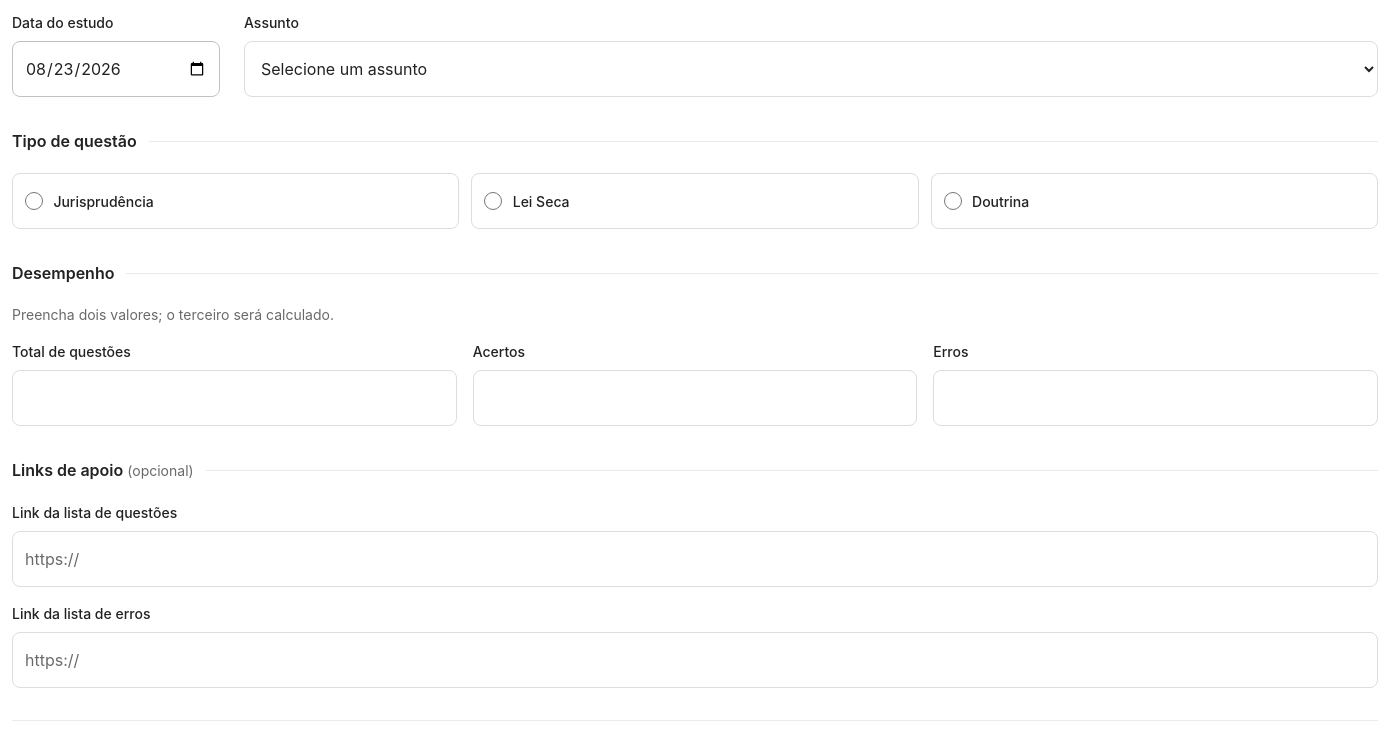
Test case: SessionForm › formats fractional percentages with one decimal in Brazilian Portuguese
This screenshot has width=1390, height=738.
Type "3" into the number field labelled "Total de questões" at (234, 398), box [12,370,457,426]
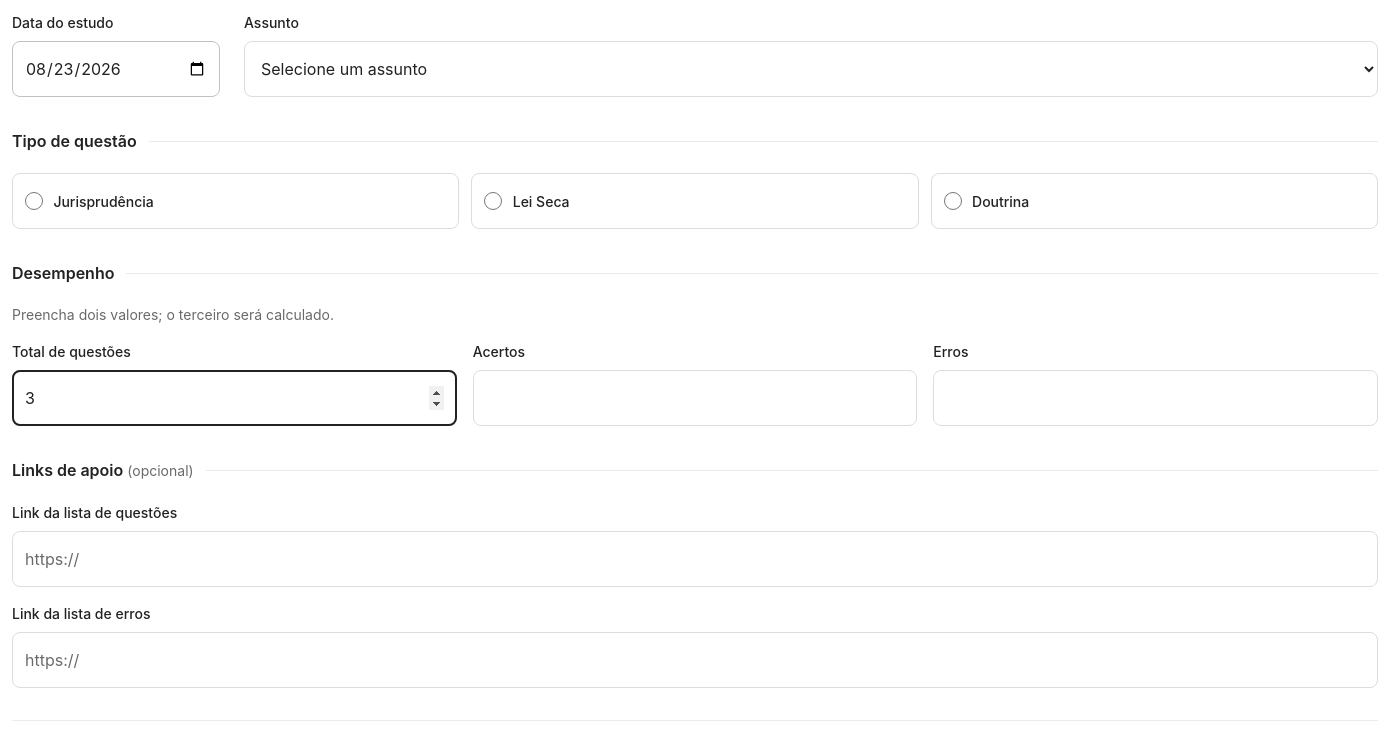
Type "2" into the number field labelled "Acertos" at (695, 398), box [473,370,917,426]
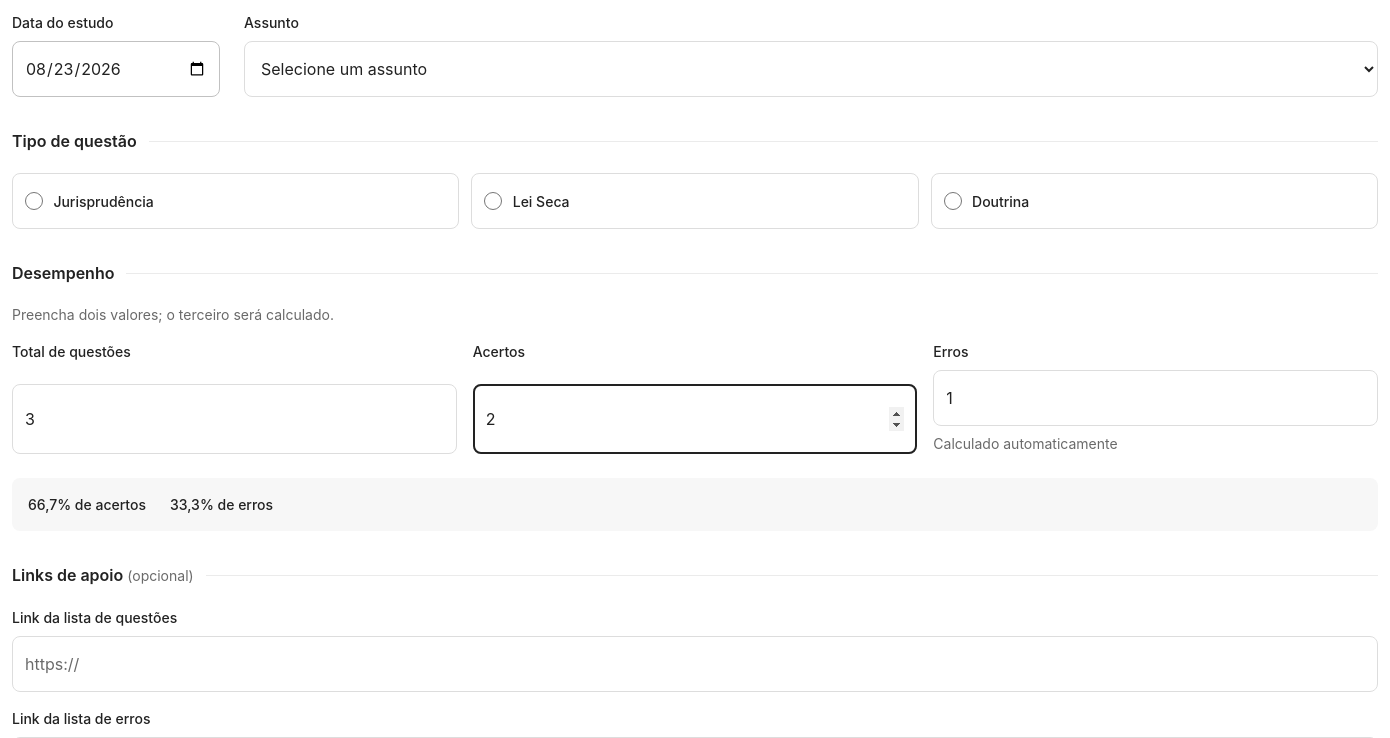
Now the text "66,7% de acertos" is shown, box [28,494,146,515]
Now the text "33,3% de erros" is shown, box [170,494,273,515]
